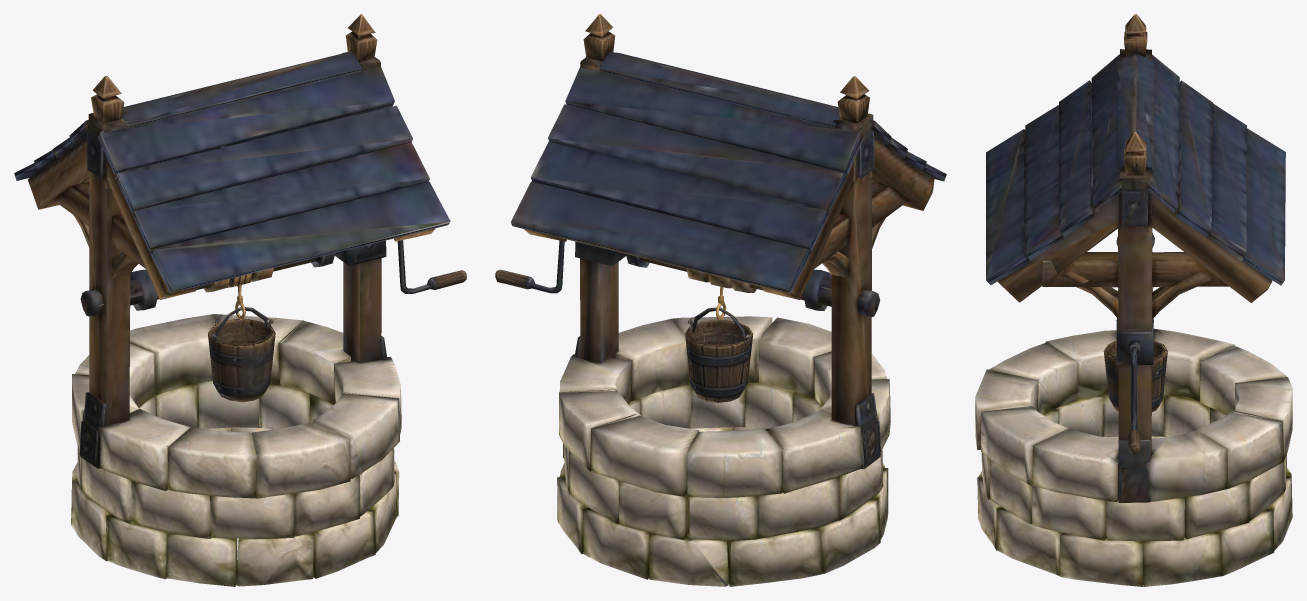
The model's file is stone_well.glb.
3 views of the same model, side by side, from view 1: azimuth 30°, elevation 25°; view 2: azimuth 150°, elevation 25°; view 3: azimuth 270°, elevation 25° (orthographic). The views are drawn at different scales.
Visible parts, largest first — view 1: kit-stone-well-1; view 2: kit-stone-well-1; view 3: kit-stone-well-1.
Part boxes in pixels (x1,y1,x2,y2): kit-stone-well-1: (14,14,466,586); kit-stone-well-1: (495,14,946,586); kit-stone-well-1: (975,14,1292,586).
Size of the model in its own units: 2.69 by 3.2 by 2.06.
Materials: 1 (1 with a texture image).
